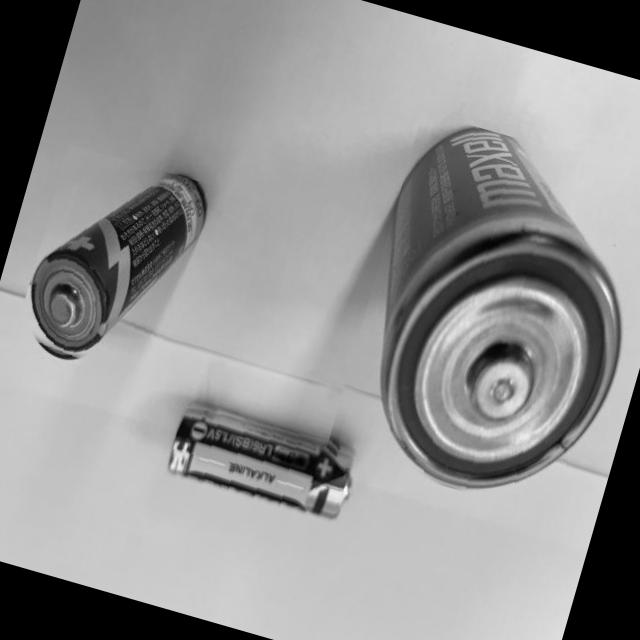Hazard: (324, 110, 640, 523), (10, 142, 212, 386), (162, 396, 366, 525)
